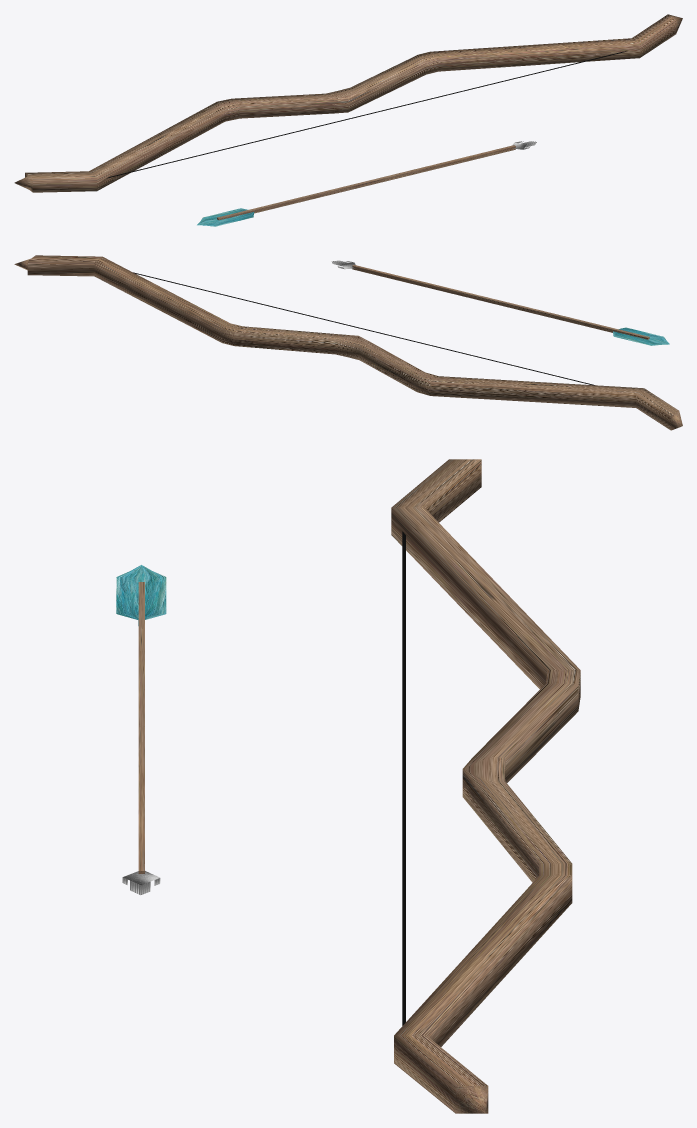
Rendered from pijl en boog.fbx.
The picture shows the model from 3 angles, top to bottom: view 1: azimuth 30°, elevation 25°; view 2: azimuth 150°, elevation 25°; view 3: azimuth 270°, elevation 25°; orthographic projection. The views are drawn at different scales.
Visible parts, largest first — view 1: pCube10, pPlane14; view 2: pCube10, pPlane14; view 3: pCube10, pPlane14.
Part boxes in pixels (bbox=[...]): pCube10: bbox=[14, 14, 682, 192]; pPlane14: bbox=[197, 141, 536, 226]; pCube10: bbox=[14, 255, 682, 430]; pPlane14: bbox=[331, 260, 669, 345]; pCube10: bbox=[391, 459, 580, 1113]; pPlane14: bbox=[116, 565, 166, 894].
Bounding box in the file's own units: 5.31 × 0.1054 × 1.6.
Materials: 5 (4 with a texture image).
